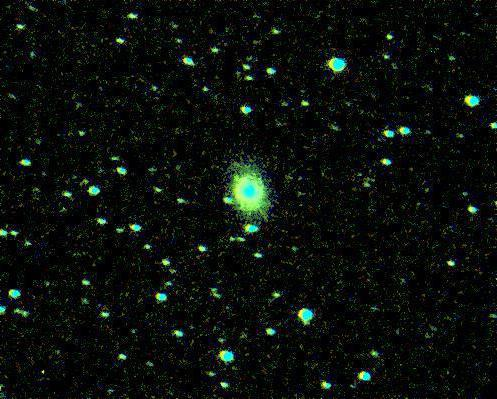star: (221, 167, 251, 197)
